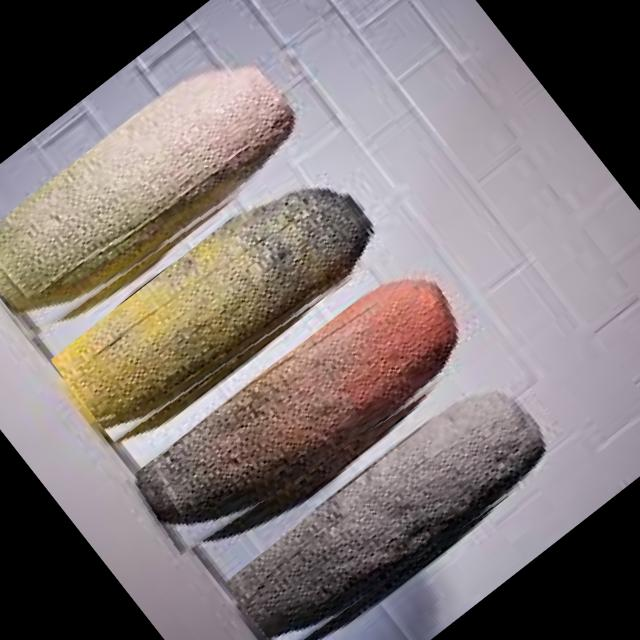Organic: (119, 247, 501, 583), (49, 153, 392, 458), (0, 36, 315, 359), (223, 371, 562, 640)
